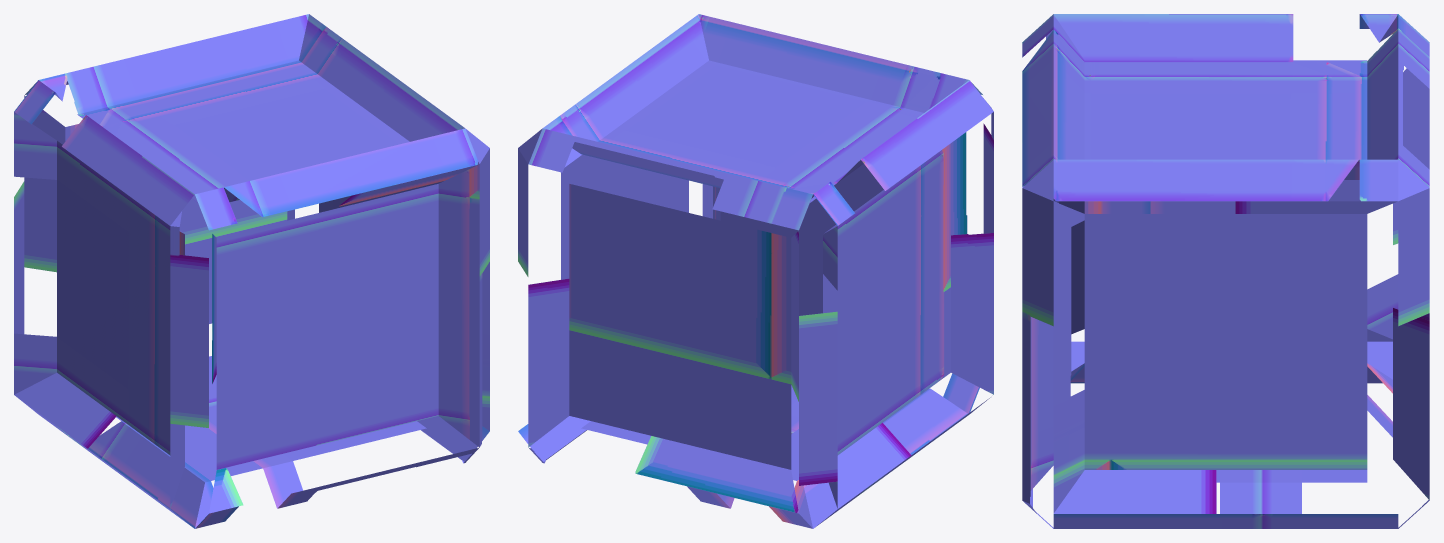
File: simplecube2.obj
3 renders of one model, left to right at view 1: azimuth 30°, elevation 25°; view 2: azimuth 150°, elevation 25°; view 3: azimuth 270°, elevation 25°, orthographic. The views are drawn at different scales.
Parts seen in each view (by area): view 1: LORES_Cube.002; view 2: LORES_Cube.002; view 3: LORES_Cube.002.
Boxes of the visible parts, bbox=[...] form: LORES_Cube.002: bbox=[14, 14, 489, 528]; LORES_Cube.002: bbox=[518, 14, 993, 528]; LORES_Cube.002: bbox=[1022, 14, 1429, 528].
Bounding box in the file's own units: 1 × 1 × 1.
